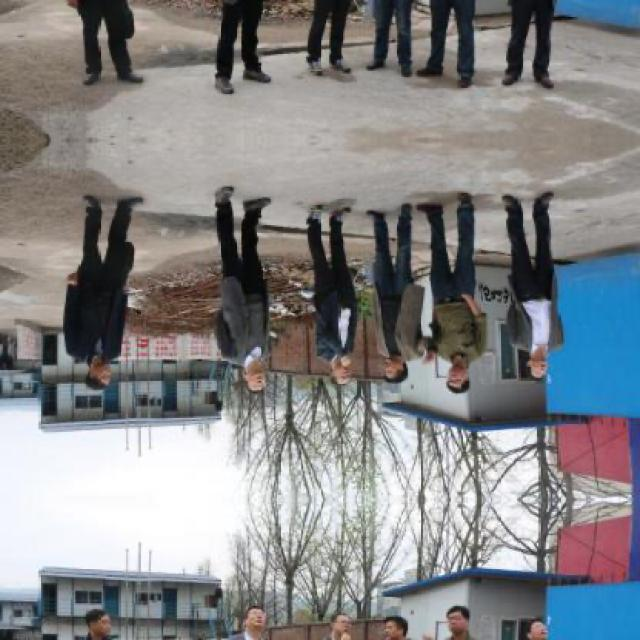sin casco: (216, 348, 268, 402), (522, 338, 556, 394), (320, 357, 369, 394), (445, 360, 476, 418), (70, 358, 105, 391), (382, 362, 404, 397)
